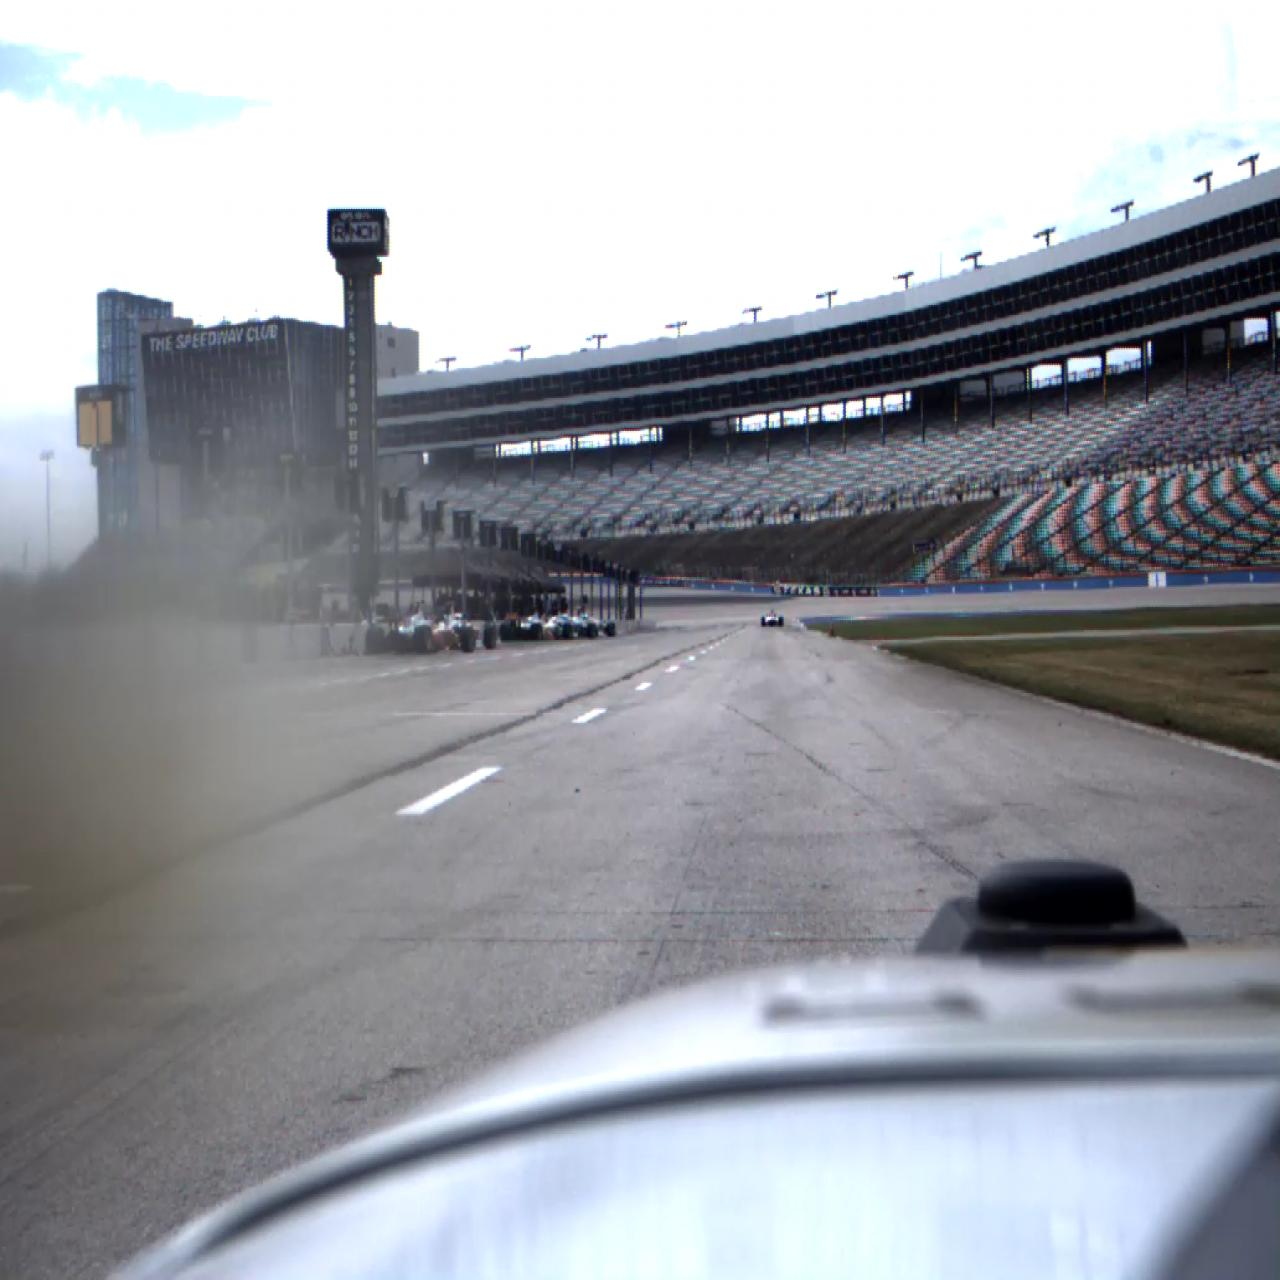AV: (762, 610, 784, 627)
Wheel: (366, 627, 384, 654), (414, 626, 431, 653), (483, 624, 497, 648), (462, 627, 475, 653), (499, 622, 515, 641), (531, 622, 543, 640), (563, 625, 572, 640), (587, 624, 597, 639), (606, 624, 615, 636), (779, 617, 784, 627), (762, 617, 765, 626)
